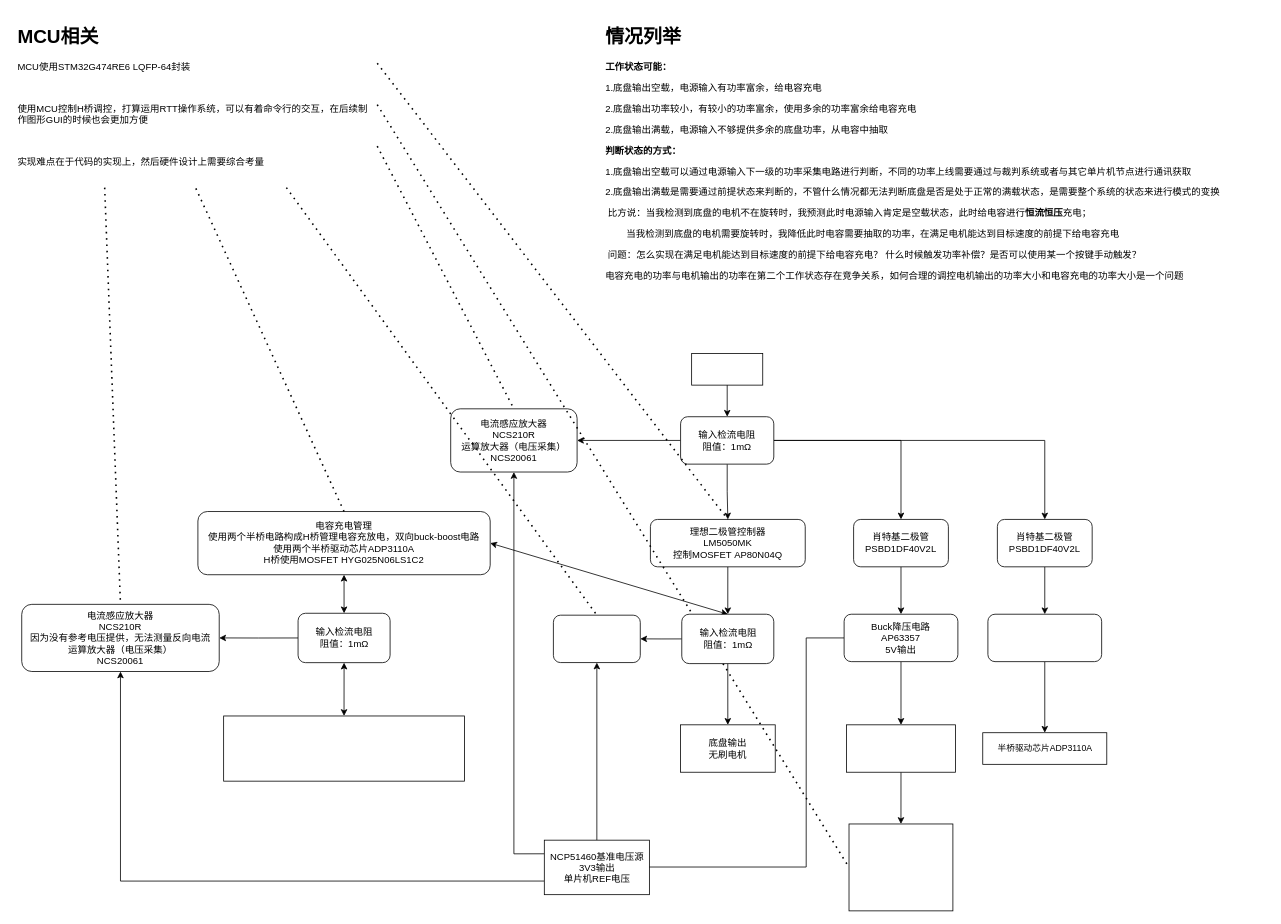
The diagram is 1281 pixels wide and 924 high, and some of its shapes have lost their labels. Each missing label, with the box of its shape:
3V3输出 STM32G474 有源晶振 CAN电平转换芯片 人机交互设备 等: (848, 823, 953, 911)
Buck降压电路 AP63357 12V输出: (987, 613, 1102, 662)
LD39050PU33R 3V3输出 CAN电平转换芯片: (846, 724, 956, 772)
法拉电容组 标称能量不能超过2000J，实测能量不能超过2200J 使用超级电容充电保护芯片BW6101 使用保护芯片扩流MOS AP80N04Q: (223, 715, 464, 781)
电流感应放大器 NCS210R: (553, 614, 640, 663)
电源输入: (691, 353, 763, 385)
